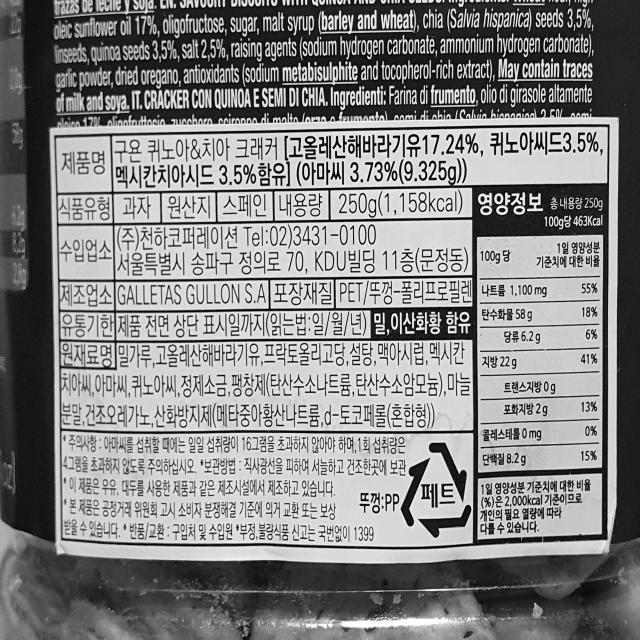Nutrition Label: (460, 169, 619, 561)
